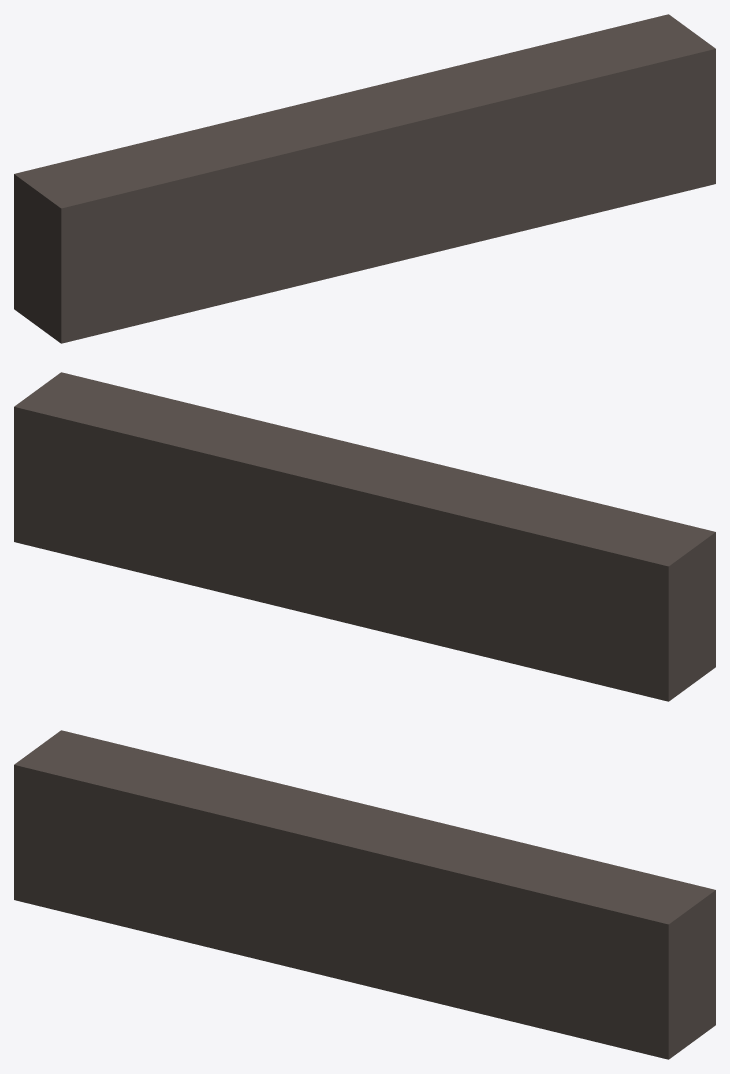
Rendered from MCastle_LowWalls_02.FBX.
3 renders of one model, top to bottom at view 1: azimuth 30°, elevation 25°; view 2: azimuth 150°, elevation 25°; view 3: azimuth 330°, elevation 25°, orthographic.
Parts seen in each view (by area): view 1: MCastle_LowWalls_02_LOD0; view 2: MCastle_LowWalls_02_LOD0; view 3: MCastle_LowWalls_02_LOD0.
Boxes of the visible parts, left/top/right/bottom form: MCastle_LowWalls_02_LOD0: left=14, top=14, right=715, bottom=343; MCastle_LowWalls_02_LOD0: left=14, top=372, right=715, bottom=701; MCastle_LowWalls_02_LOD0: left=14, top=730, right=715, bottom=1059.
Bounding box in the file's own units: 157 × 31.08 × 19.69.
